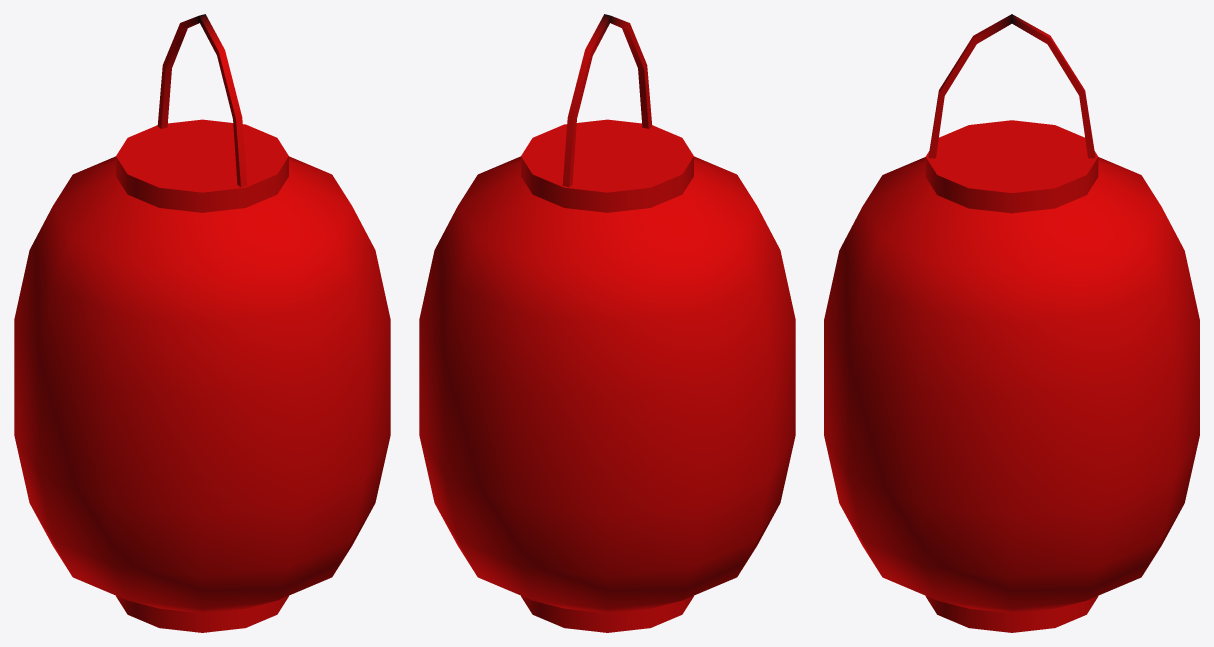
File: SM_Paper_Lantern.fbx
3 views of the same model, side by side, from view 1: azimuth 30°, elevation 25°; view 2: azimuth 150°, elevation 25°; view 3: azimuth 270°, elevation 25° (orthographic).
Parts seen in each view (by area): view 1: Paper Lantern; view 2: Paper Lantern; view 3: Paper Lantern.
Part boxes in pixels (bbox=[...]): Paper Lantern: bbox=[14, 14, 390, 632]; Paper Lantern: bbox=[419, 14, 795, 632]; Paper Lantern: bbox=[824, 14, 1199, 632].
Bounding box in the file's own units: 0.2236 × 0.3813 × 0.2236.
